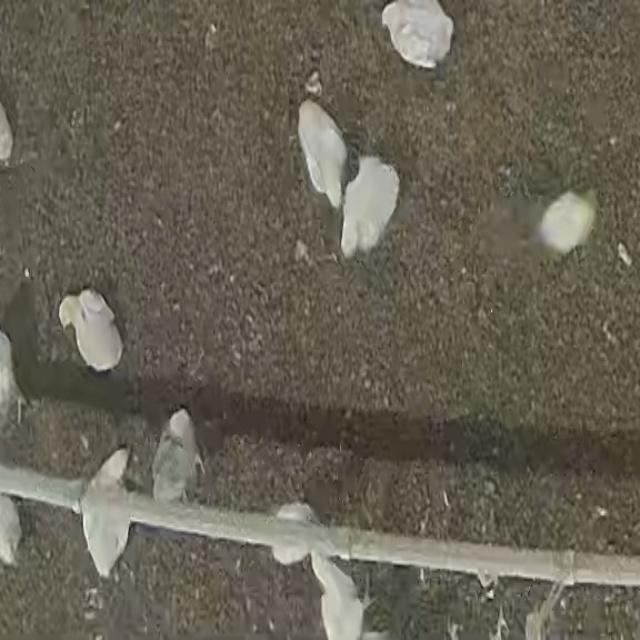chicken: (337, 148, 404, 260), (80, 448, 136, 578), (294, 91, 350, 204), (54, 288, 128, 371), (150, 409, 203, 509), (309, 551, 367, 640), (382, 0, 454, 69), (534, 188, 598, 254), (266, 502, 317, 566)
